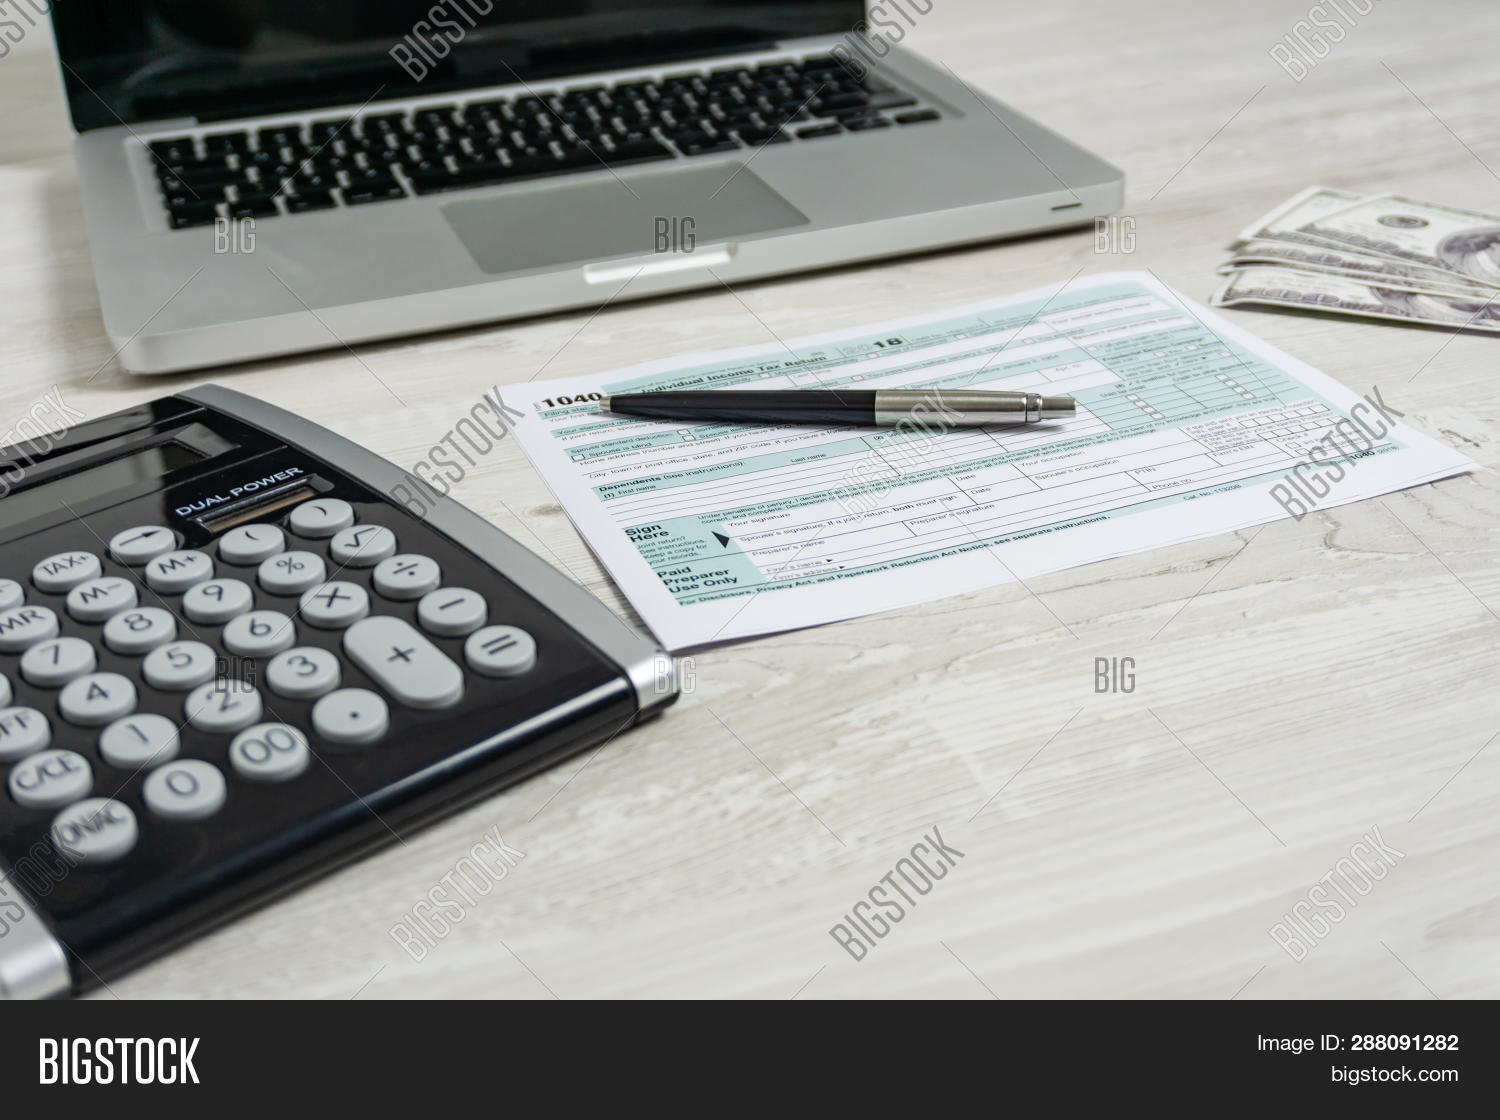Calculator: (4, 388, 684, 998)
